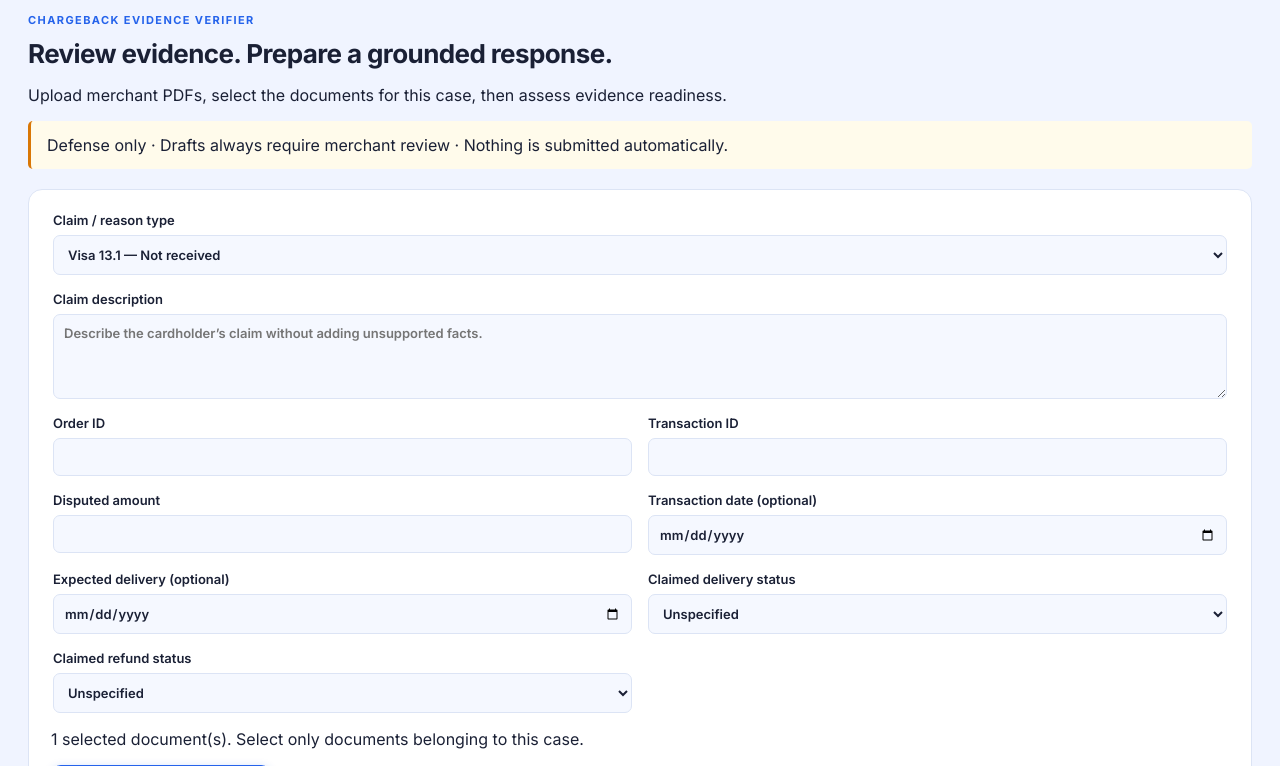
Test: sends case fields and selected scope, shows useful API errors
Replace the text in the text box labelled "Claim description" with "Not received": coordinates (640, 356) [53, 314, 1227, 399]
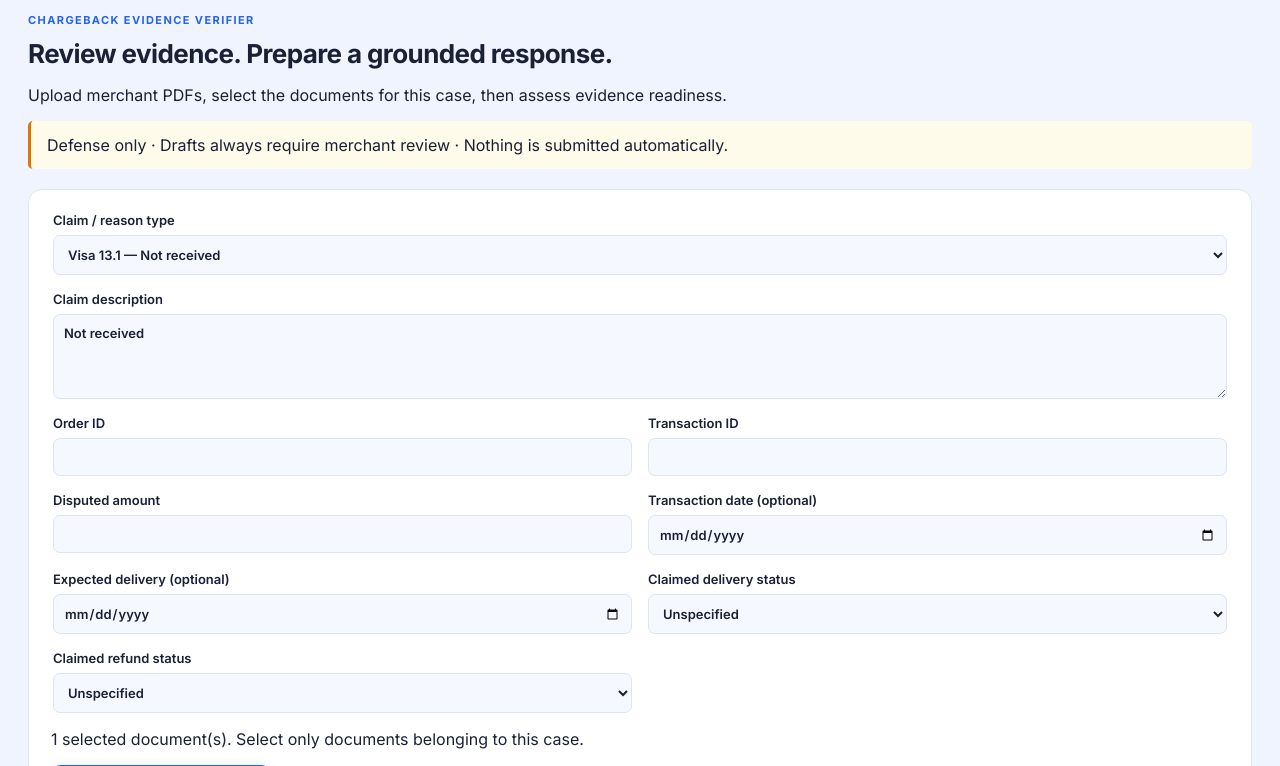
In the field labelled "Order ID": coordinates (342, 457) [53, 438, 632, 476], type "O-1"
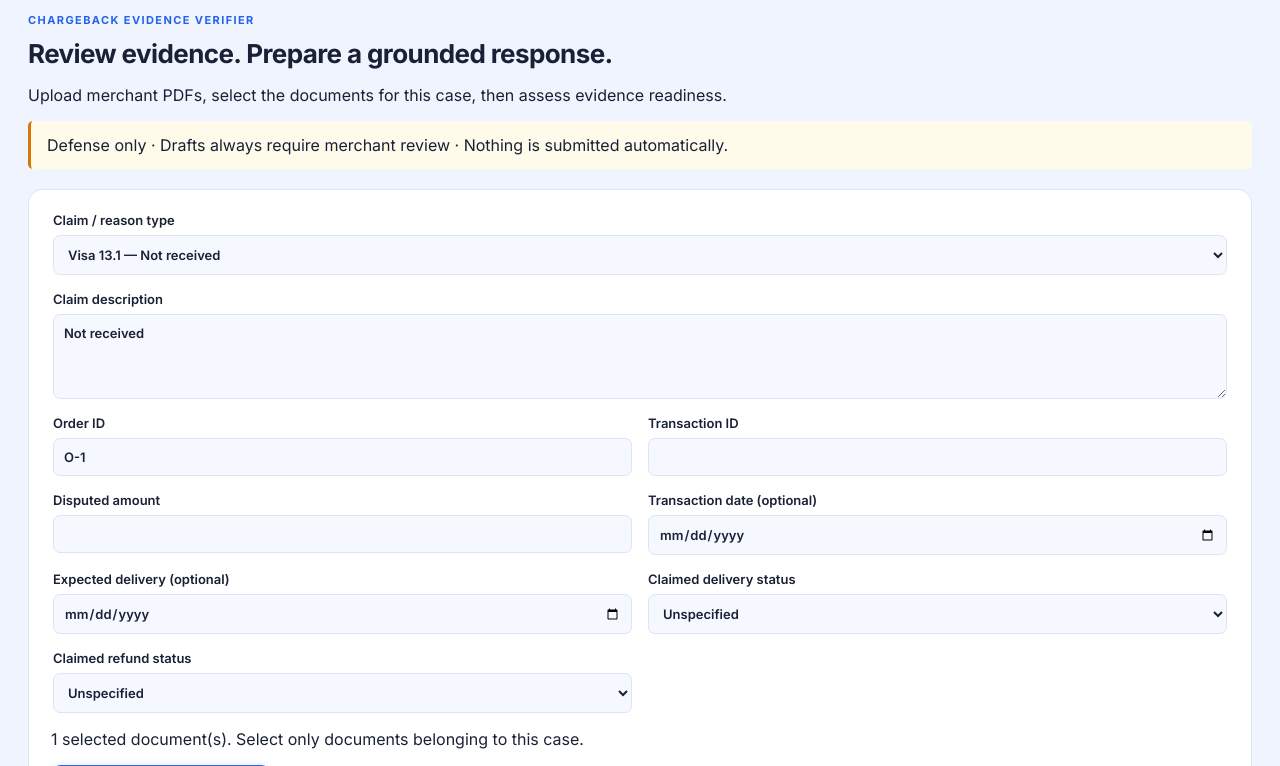
In the field labelled "Transaction ID": coordinates (938, 457) [648, 438, 1227, 476], type "T-1"
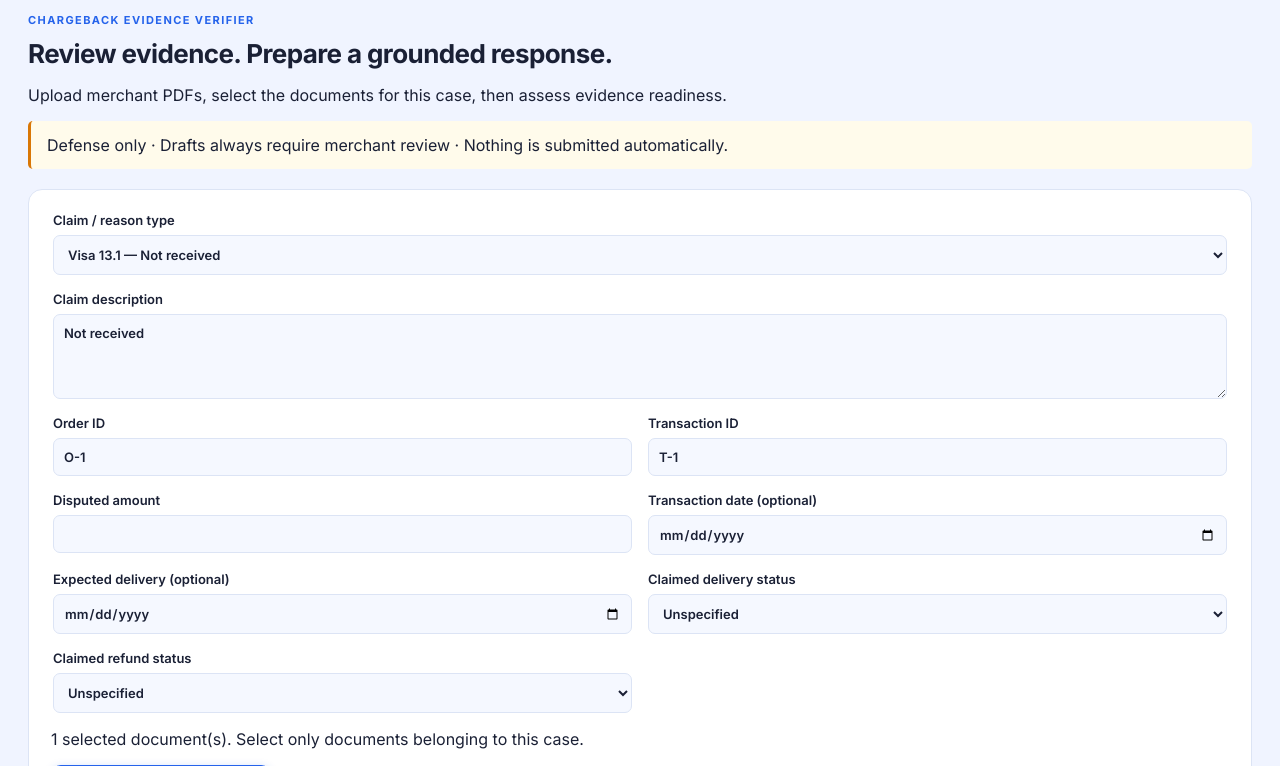
In the number field labelled "Disputed amount": coordinates (342, 534) [53, 515, 632, 553], type "50"
(page scrolled)
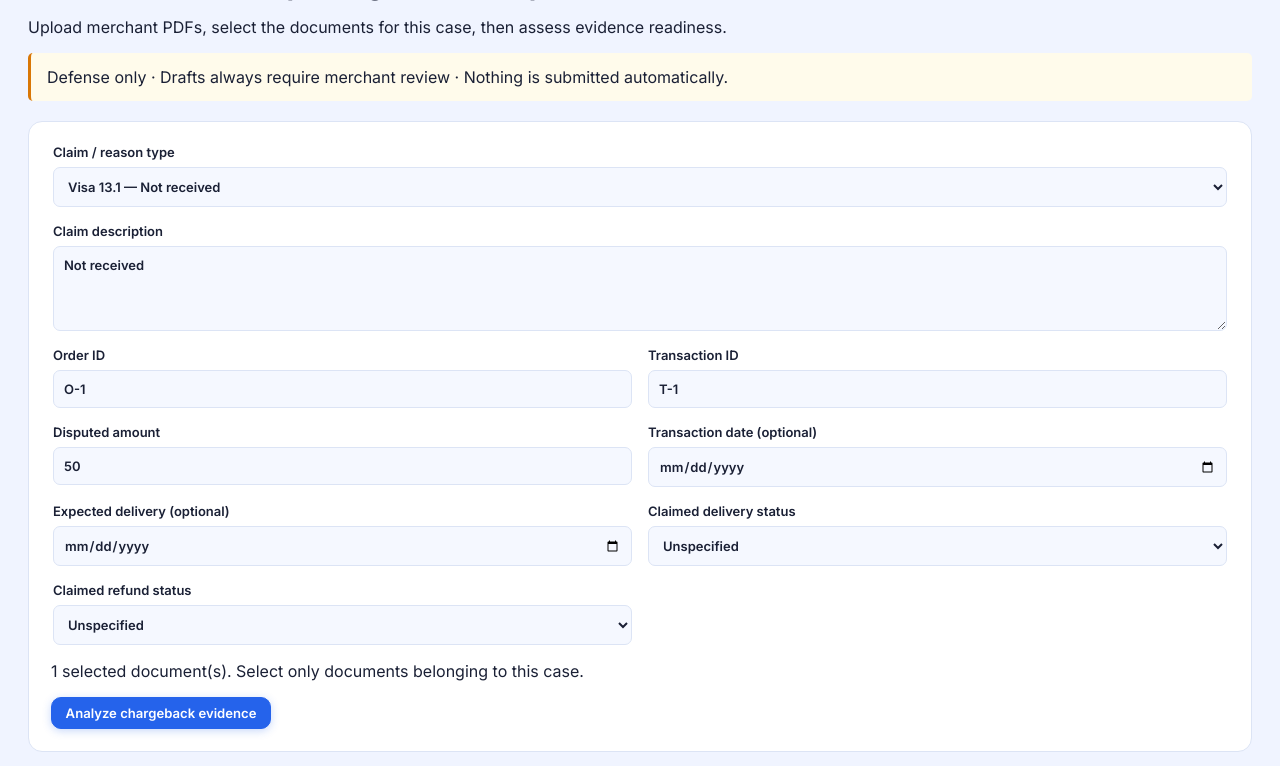
Click the button "Analyze chargeback evidence": coordinates (161, 713) [51, 697, 271, 729]
(page scrolled)
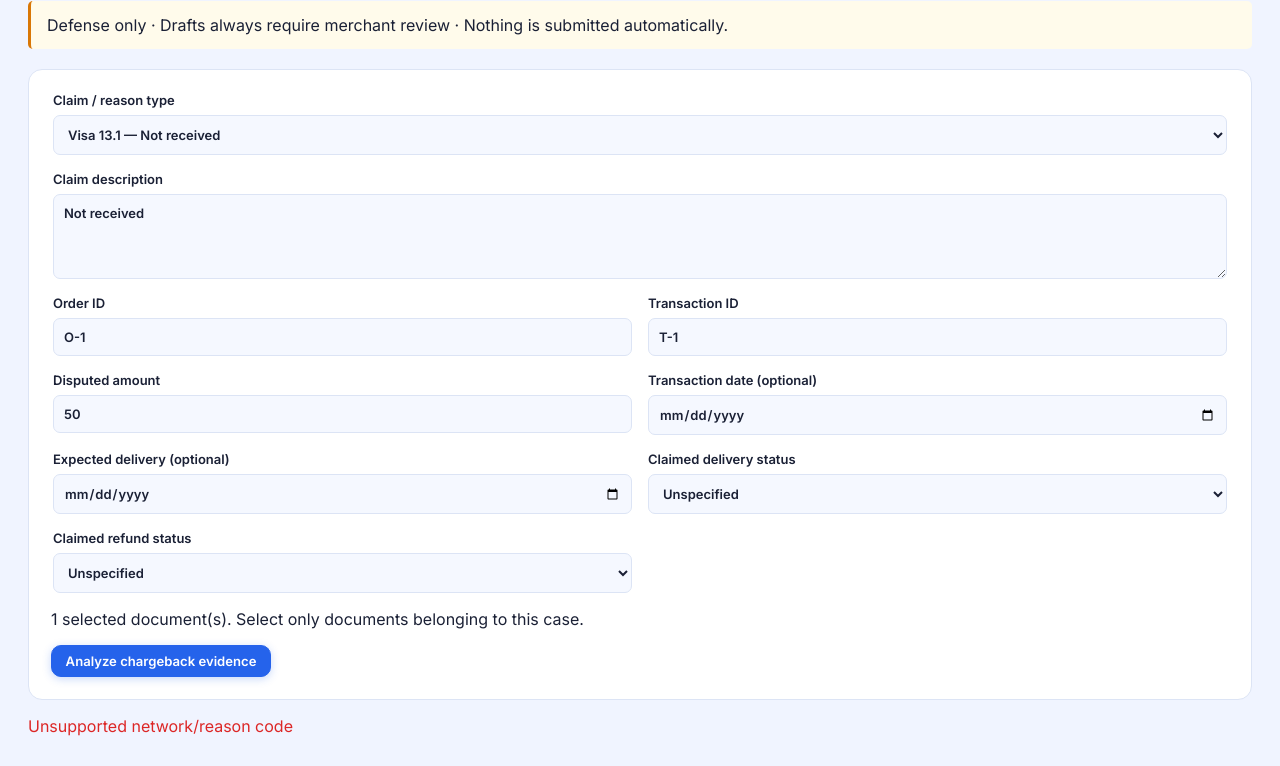
Check: the message reads "Unsupported network/reason code", box [28, 716, 293, 736]
